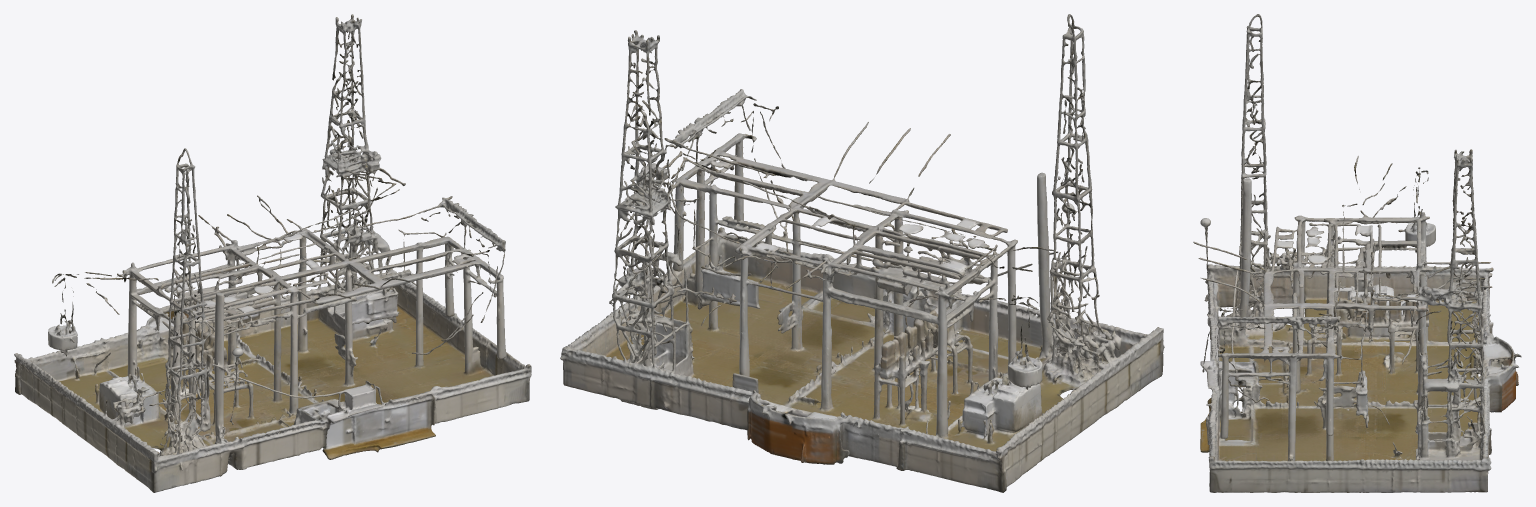
File: Jeros_2_draco.glb
The picture shows the model from 3 angles, left to right: view 1: azimuth 30°, elevation 25°; view 2: azimuth 150°, elevation 25°; view 3: azimuth 270°, elevation 25°; orthographic projection. The views are drawn at different scales.
Size of the model in its own units: 2 by 1.63 by 1.47.
1 material, 1 textured.
